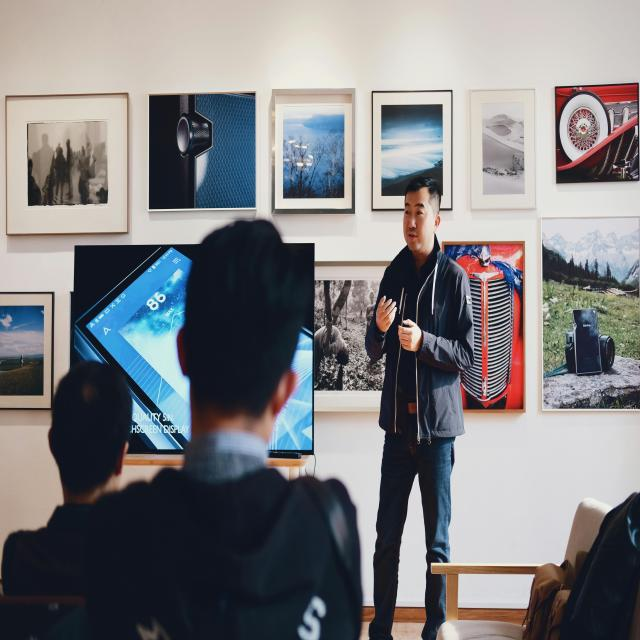stand: (359, 171, 465, 640)
